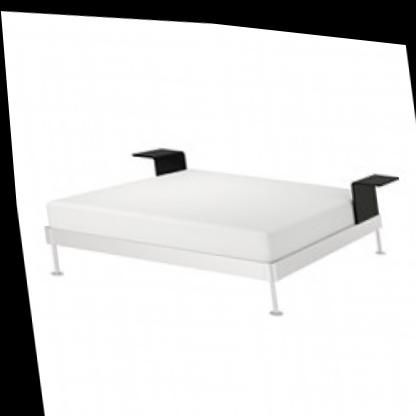Bed: (12, 64, 416, 346)
